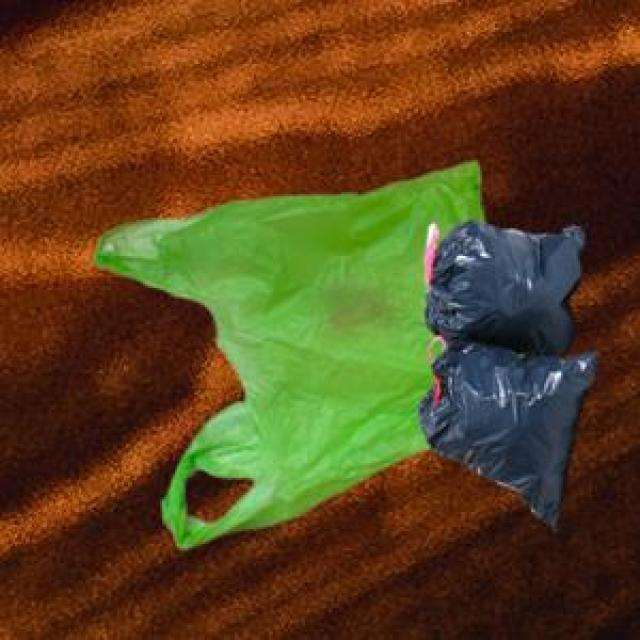miscellaneous trash: (414, 216, 593, 525)
